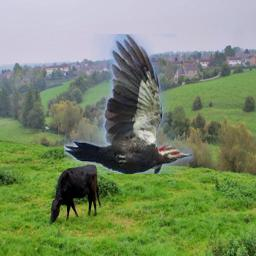Woodpecker: (64, 34, 194, 174)
